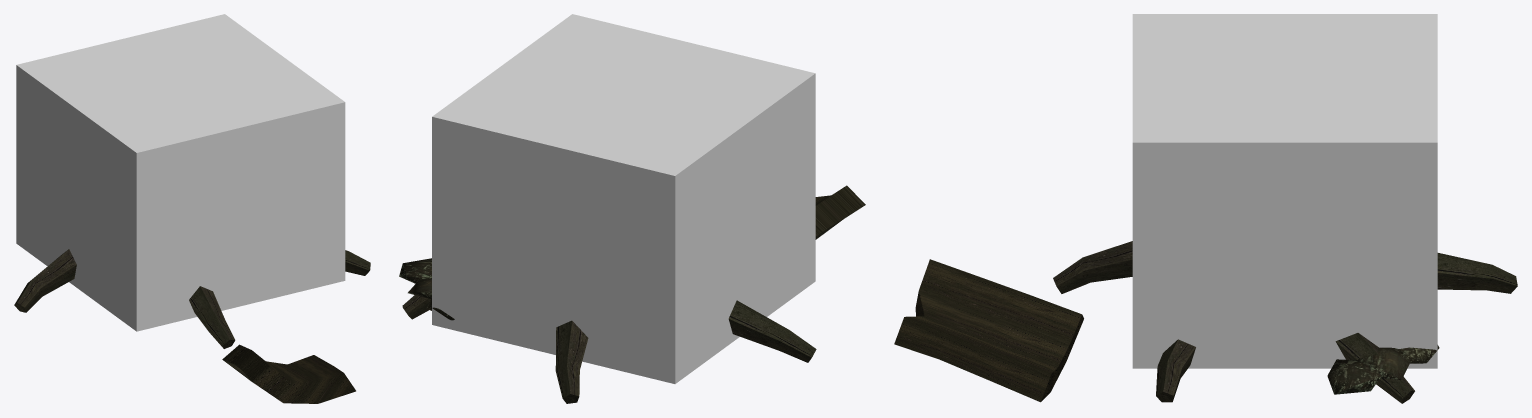
File: rotten_stump_opened.glb
The picture shows the model from 3 angles, left to right: view 1: azimuth 30°, elevation 25°; view 2: azimuth 150°, elevation 25°; view 3: azimuth 270°, elevation 25°; orthographic projection. The views are drawn at different scales.
Parts seen in each view (by area): view 1: col_click, rotten_stump_opened; view 2: col_click, rotten_stump_opened; view 3: col_click, rotten_stump_opened.
Part boxes in pixels (box(x1,y1,x2,y2)): col_click: box(16, 14, 345, 331); rotten_stump_opened: box(14, 249, 370, 403); col_click: box(432, 14, 815, 383); rotten_stump_opened: box(399, 185, 865, 403); col_click: box(1132, 14, 1437, 368); rotten_stump_opened: box(894, 241, 1517, 403).
Bounding box in the file's own units: 1.73 × 1.21 × 2.25.
Materials: 5 (5 with a texture image).
